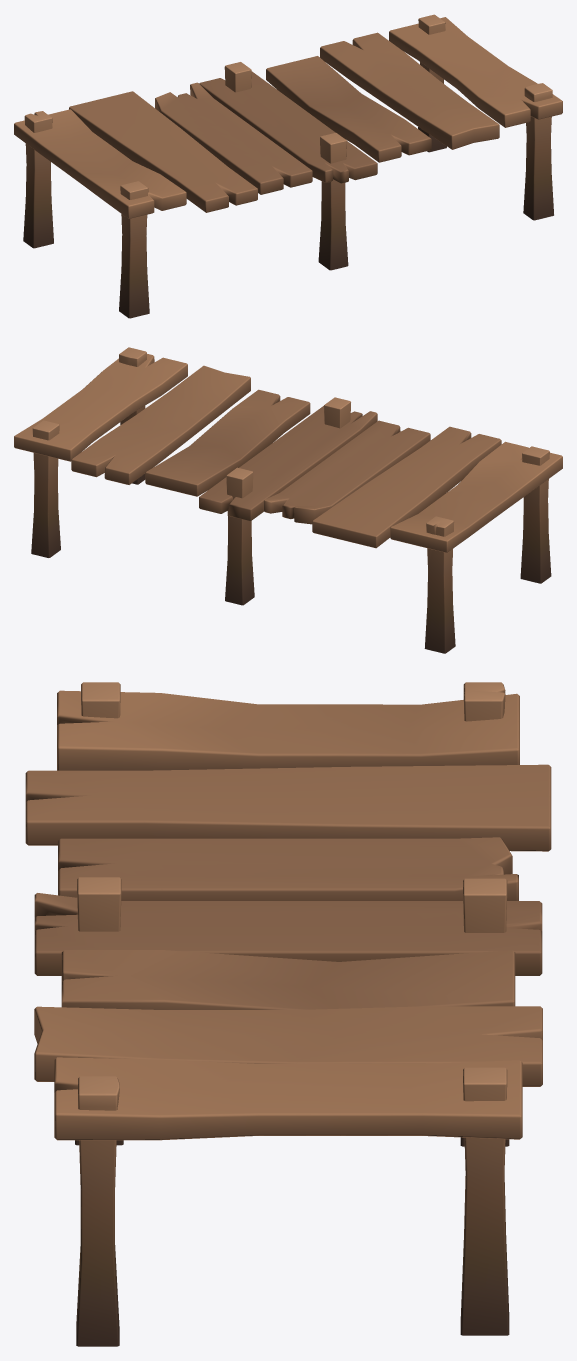
The model's file is Bridge_1.fbx.
3 views of the same model, one above another, from view 1: azimuth 30°, elevation 25°; view 2: azimuth 150°, elevation 25°; view 3: azimuth 270°, elevation 25° (orthographic). The views are drawn at different scales.
Parts seen in each view (by area): view 1: Bridge_1; view 2: Bridge_1; view 3: Bridge_1.
Boxes of the visible parts, x1=… form: Bridge_1: x1=14, y1=14, x2=562, y2=318; Bridge_1: x1=14, y1=347, x2=562, y2=653; Bridge_1: x1=25, y1=682, x2=551, y2=1346.
Bounding box in the file's own units: 422 × 117 × 221.
